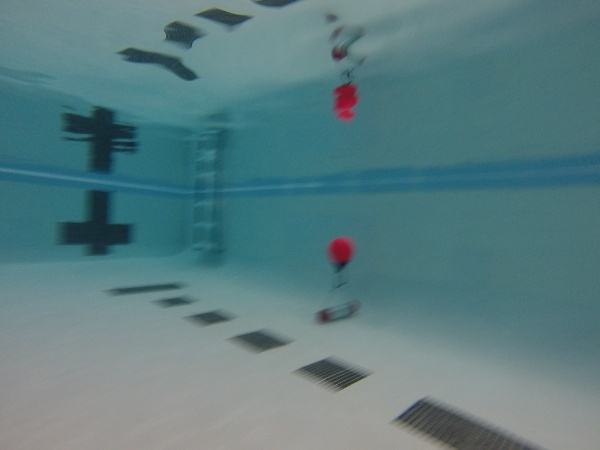buoy_red: (325, 235, 356, 272)
